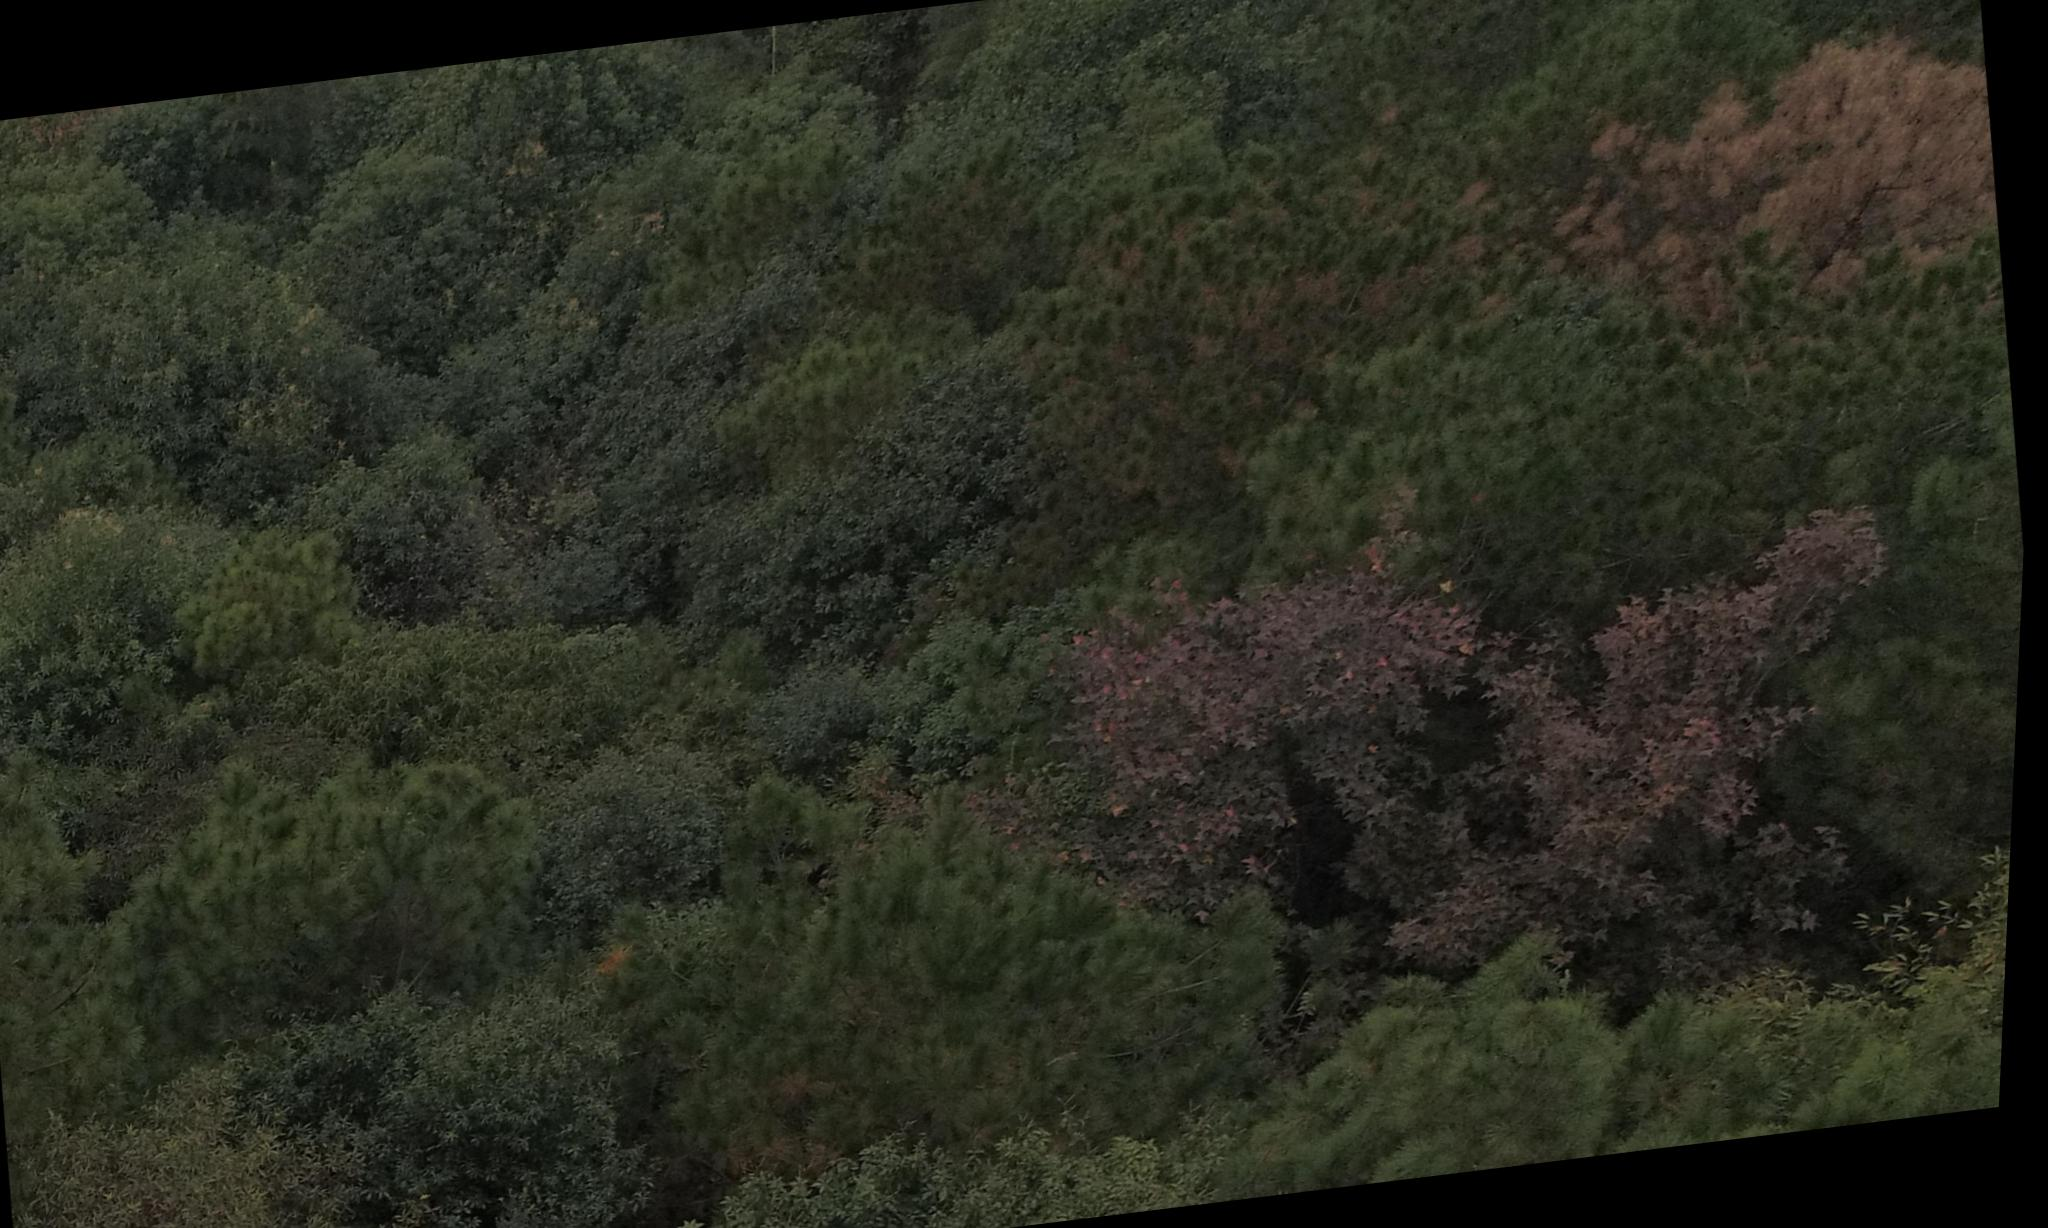heavy: (1550, 23, 1994, 344)
light: (1028, 139, 1517, 497)
